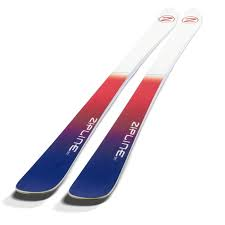skis: (13, 8, 204, 203)
